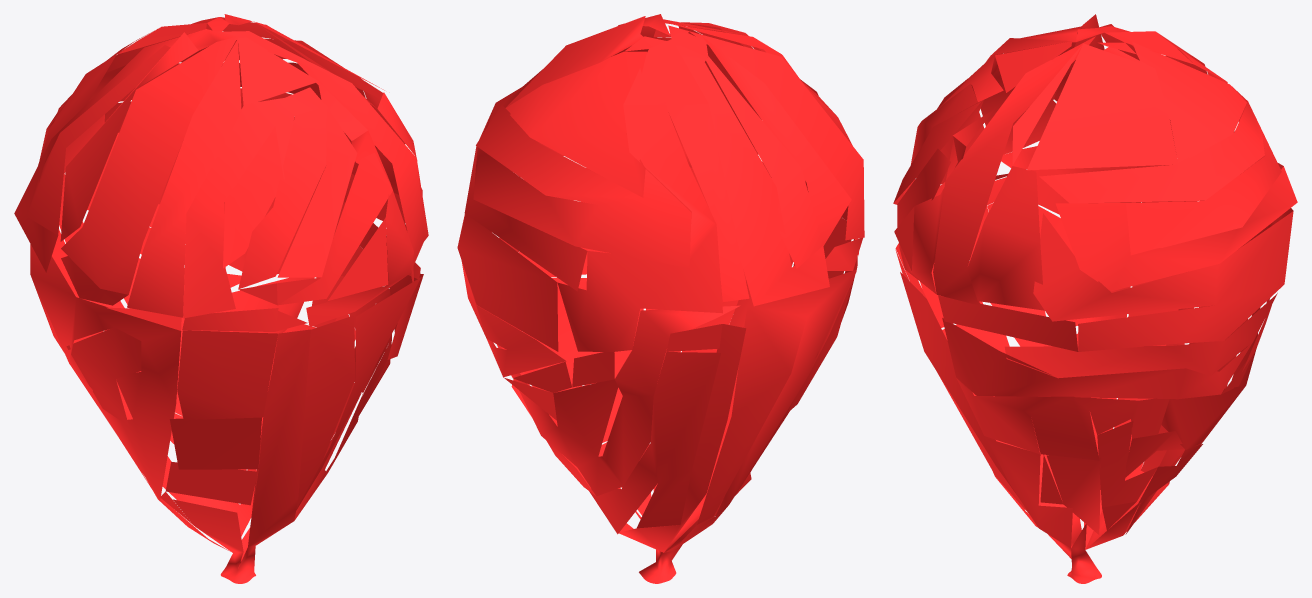
File: baloon1.fbx
The picture shows the model from 3 angles, left to right: view 1: azimuth 30°, elevation 25°; view 2: azimuth 150°, elevation 25°; view 3: azimuth 270°, elevation 25°; orthographic projection. The views are drawn at different scales.
Visible parts, largest first — view 1: Sphere; view 2: Sphere; view 3: Sphere.
Part boxes in pixels (x1=…): Sphere: x1=14, y1=14, x2=428, y2=583; Sphere: x1=457, y1=14, x2=864, y2=583; Sphere: x1=893, y1=14, x2=1297, y2=583.
Bounding box in the file's own units: 194 × 291 × 198.
